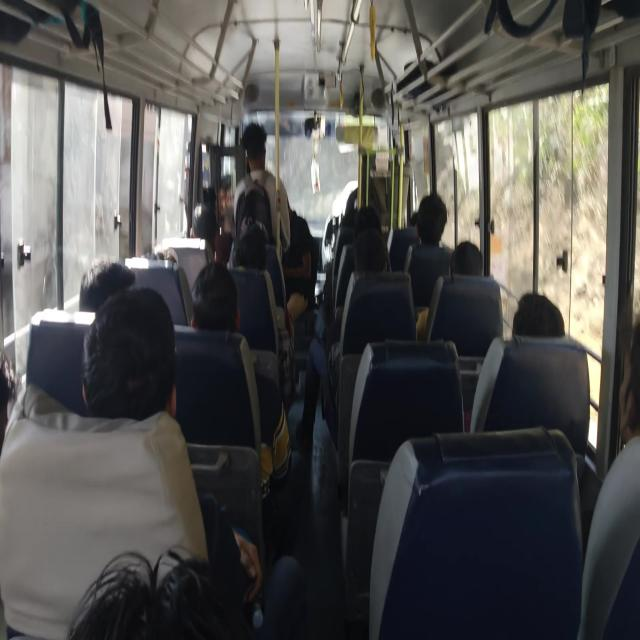person: (65, 578, 276, 640), (90, 300, 171, 414), (609, 328, 640, 473), (61, 256, 139, 304), (196, 269, 240, 345), (352, 244, 406, 298), (493, 297, 562, 338), (458, 244, 502, 296), (240, 120, 276, 177), (0, 361, 27, 431), (226, 236, 269, 278), (418, 200, 454, 239), (349, 205, 387, 238), (146, 245, 181, 279), (194, 198, 216, 230), (240, 223, 266, 243), (411, 204, 431, 230), (339, 206, 361, 229)
